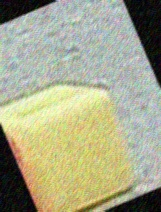yellow_cube: (3, 84, 146, 210)
